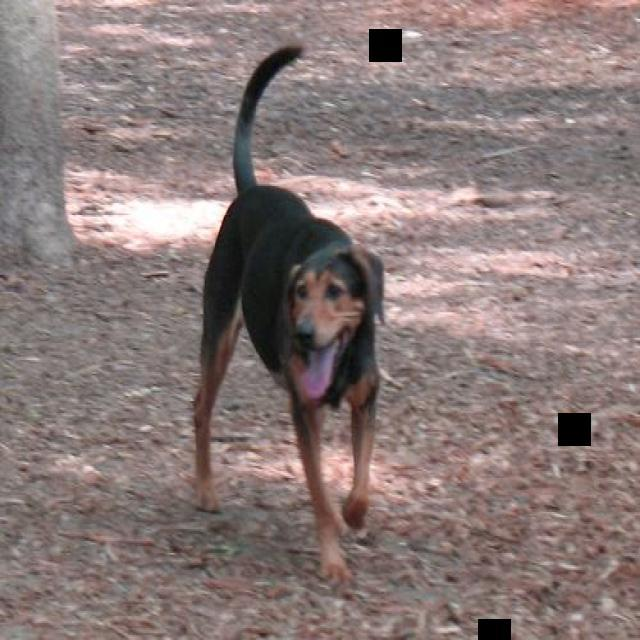adult_dog: (189, 41, 387, 588)
